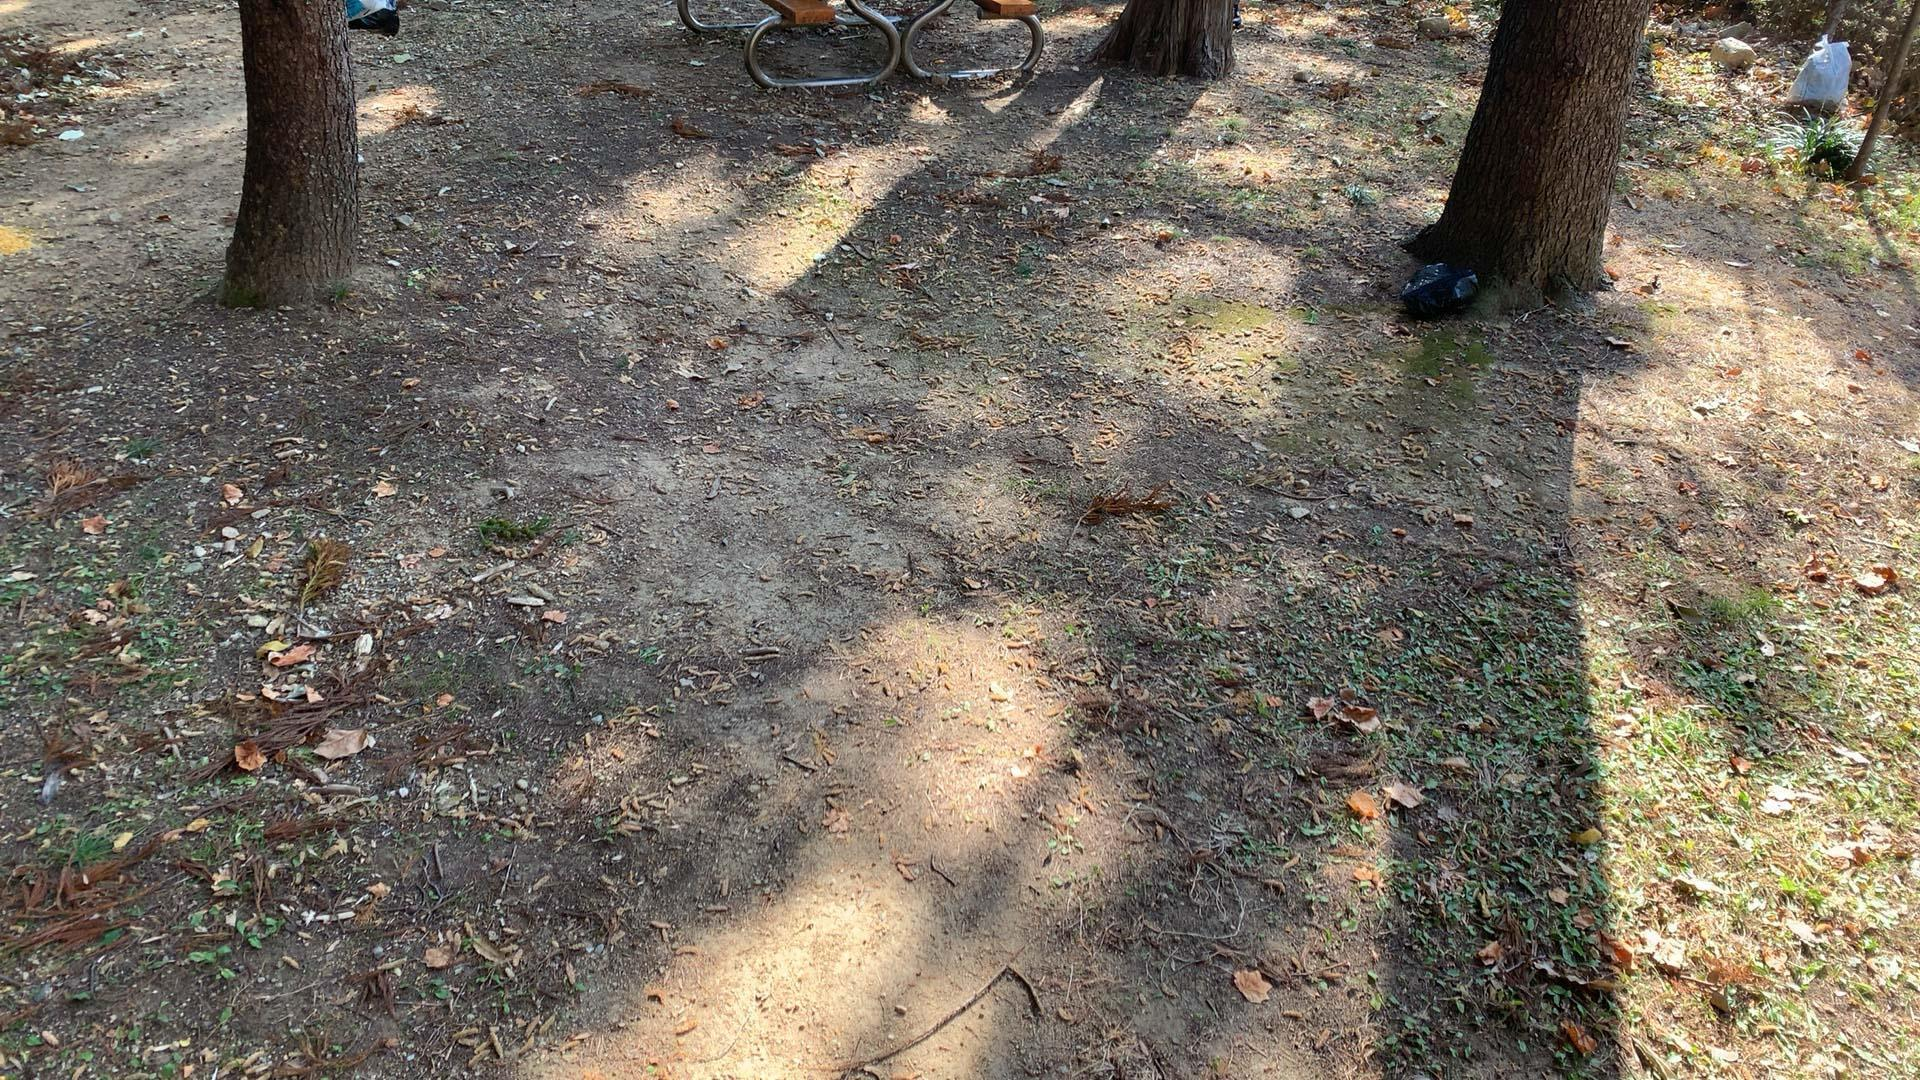black_bag: (1398, 252, 1484, 324)
white_bag: (1783, 32, 1859, 119)
